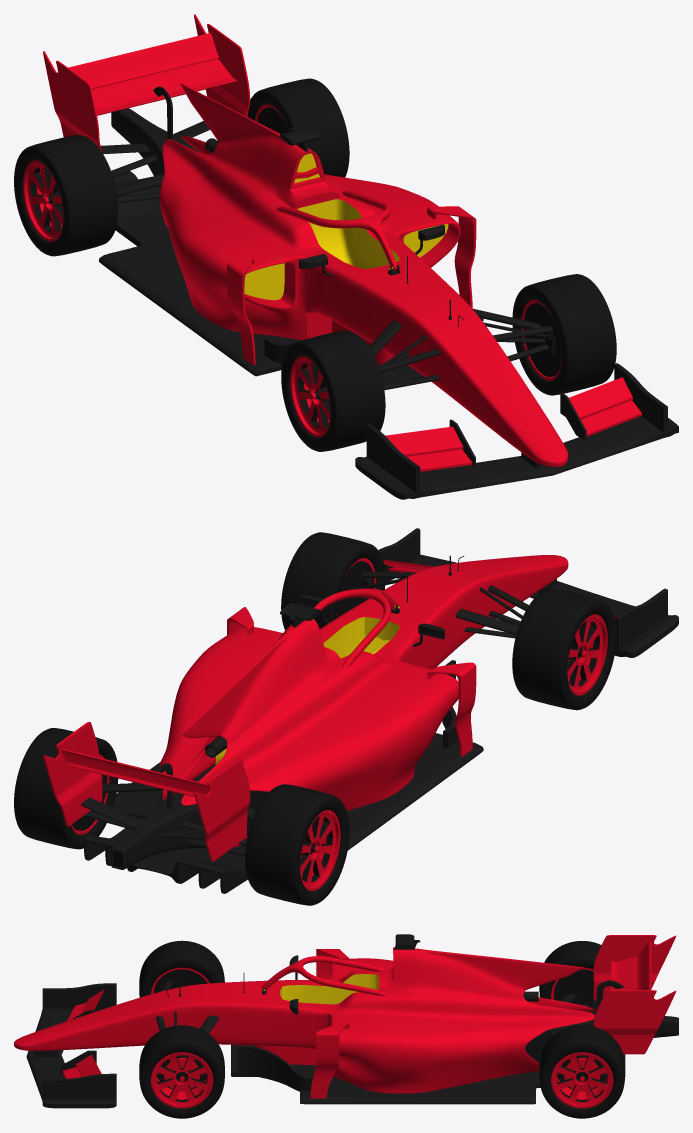
The model's file is Men_accessory_Ferrari_5000.fbx.
3 views of the same model, one above another, from view 1: azimuth 30°, elevation 25°; view 2: azimuth 150°, elevation 25°; view 3: azimuth 270°, elevation 25° (orthographic). The views are drawn at different scales.
Parts seen in each view (by area): view 1: _gltfNode_0, _gltfNode_3, _gltfNode_13, _gltfNode_16, _gltfNode_4, _gltfNode_2, _gltfNode_10, _gltfNode_1, _gltfNode_14, _gltfNode_17; view 2: _gltfNode_0, _gltfNode_3, _gltfNode_16, _gltfNode_13, _gltfNode_4, _gltfNode_17, _gltfNode_14, _gltfNode_2, _gltfNode_10; view 3: _gltfNode_0, _gltfNode_3, _gltfNode_13, _gltfNode_4, _gltfNode_16, _gltfNode_10, _gltfNode_14, _gltfNode_17, _gltfNode_2, _gltfNode_9.
Boxes of the visible parts, box(x1,y1,x2,y2) form: _gltfNode_0: box(43, 14, 641, 471); _gltfNode_3: box(99, 86, 553, 468); _gltfNode_13: box(281, 274, 616, 451); _gltfNode_16: box(14, 78, 349, 256); _gltfNode_4: box(355, 363, 678, 499); _gltfNode_2: box(298, 199, 399, 268); _gltfNode_10: box(47, 107, 561, 401); _gltfNode_1: box(244, 153, 448, 300); _gltfNode_14: box(290, 299, 561, 437); _gltfNode_17: box(23, 104, 284, 241); _gltfNode_0: box(43, 555, 616, 861); _gltfNode_3: box(81, 555, 556, 893); _gltfNode_16: box(14, 728, 349, 905); _gltfNode_13: box(281, 532, 616, 710); _gltfNode_4: box(378, 528, 678, 657); _gltfNode_17: box(71, 754, 340, 890); _gltfNode_14: box(336, 558, 607, 695); _gltfNode_2: box(323, 617, 399, 658); _gltfNode_10: box(72, 561, 583, 855); _gltfNode_0: box(14, 935, 676, 1098); _gltfNode_3: box(35, 934, 678, 1104); _gltfNode_13: box(139, 940, 224, 1118); _gltfNode_4: box(26, 983, 116, 1108); _gltfNode_16: box(539, 941, 625, 1118); _gltfNode_10: box(153, 969, 607, 1089); _gltfNode_14: box(151, 967, 213, 1108); _gltfNode_17: box(551, 967, 613, 1108); _gltfNode_2: box(280, 974, 378, 1004); _gltfNode_9: box(164, 1058, 600, 1091).
Size of the model in its own units: 170 by 99.25 by 463.
